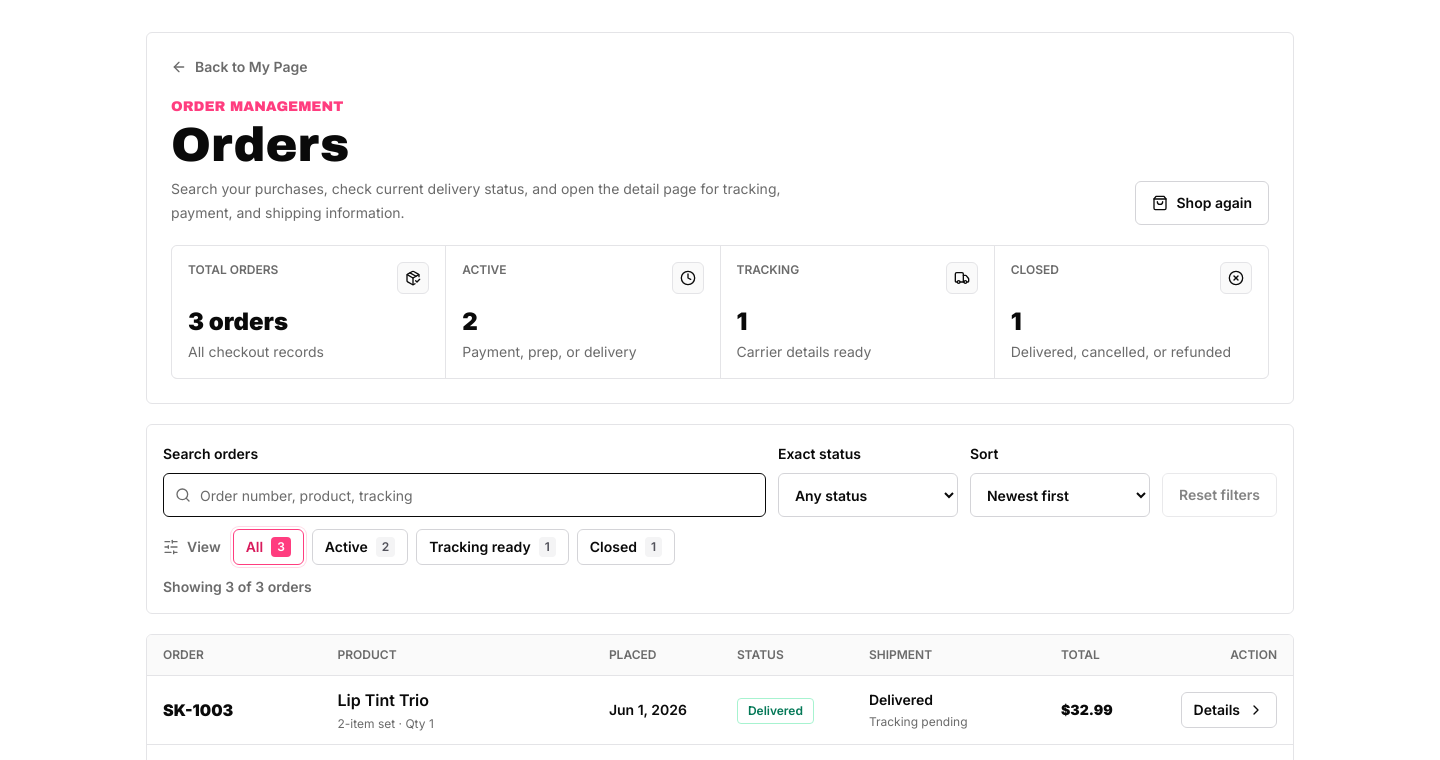
AccountOrdersClient › uses a dense order table with quick status filters for larger histories
Expected: the column heading "Order" is shown, 163,647 -> 204,662
Expected: the column heading "Product" is shown, 338,647 -> 397,662
Step 1. Click the button "Tracking ready 1" → (492, 547), box 416,529 -> 569,565
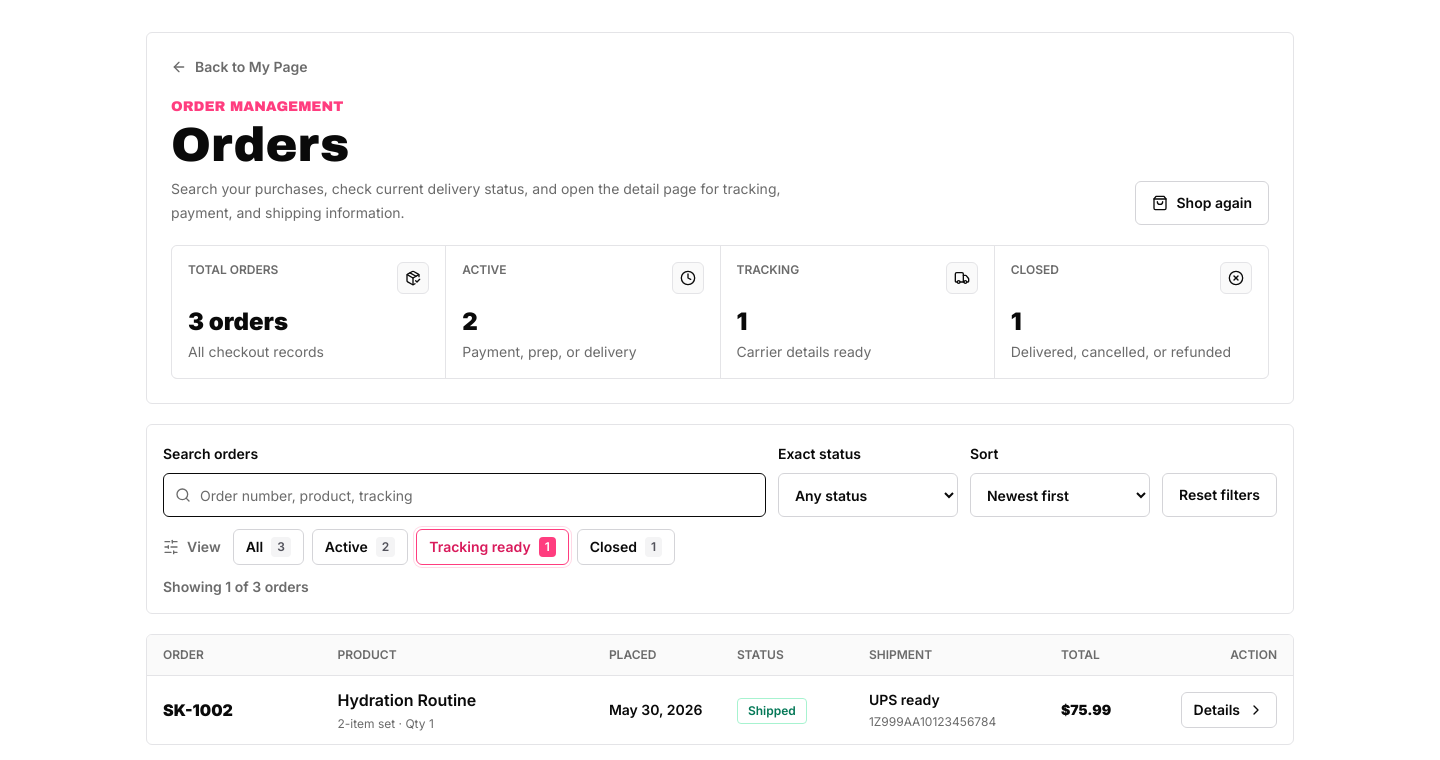
Expected: the text "Hydration Routine" is shown, 338,690 -> 476,710
Result: the message reads "Showing 1 of 3 orders" at 163,578 -> 309,595
